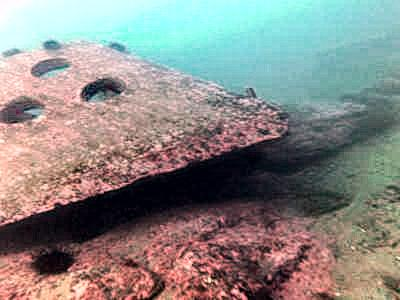urchin: (34, 251, 76, 274), (107, 42, 126, 55), (41, 39, 60, 47)
